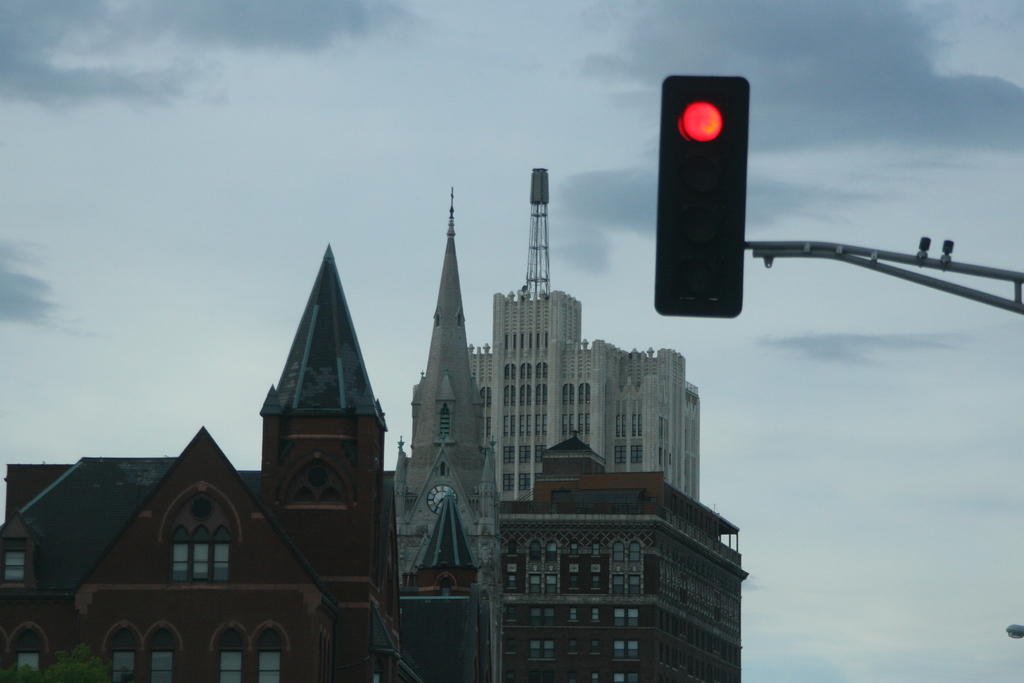red_light: (668, 78, 740, 310)
